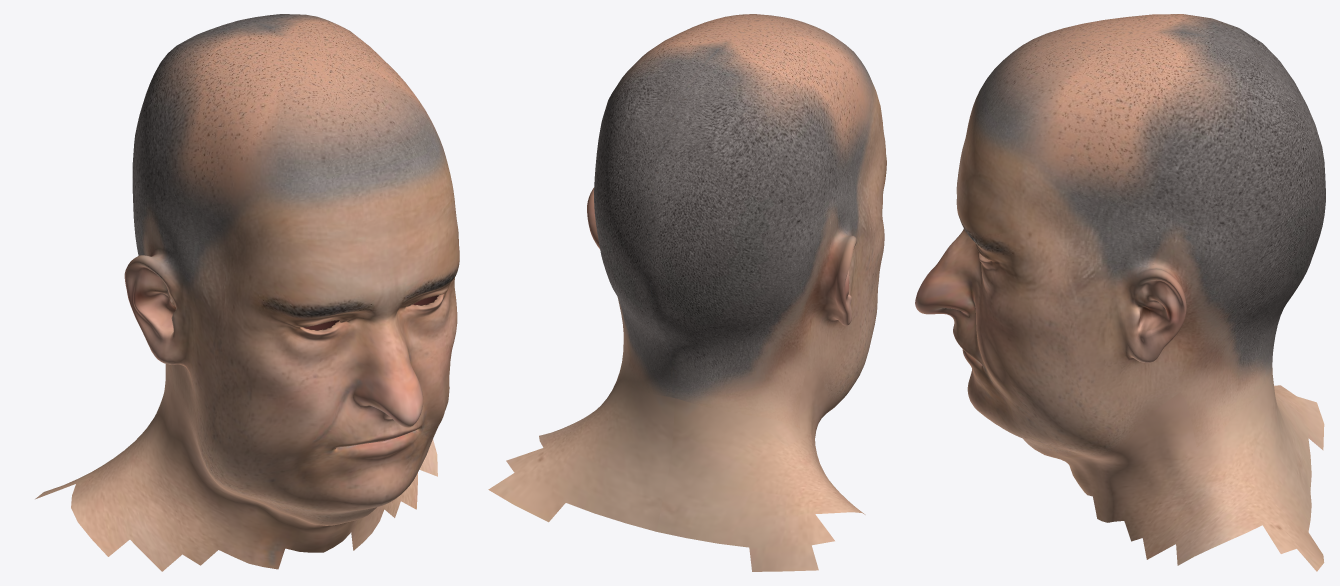
Rendered from halvorsen-head.glb.
3 renders of one model, left to right at view 1: azimuth 30°, elevation 25°; view 2: azimuth 150°, elevation 25°; view 3: azimuth 270°, elevation 25°, orthographic. The views are drawn at different scales.
Visible parts, largest first — view 1: halvorsen_head; view 2: halvorsen_head; view 3: halvorsen_head.
Boxes of the visible parts, <box> form: halvorsen_head: <box>35,14,459,571</box>; halvorsen_head: <box>488,14,886,571</box>; halvorsen_head: <box>915,14,1325,571</box>.
Size of the model in its own units: 0.2187 by 0.2834 by 0.2239.
Materials: 1 (1 with a texture image).
